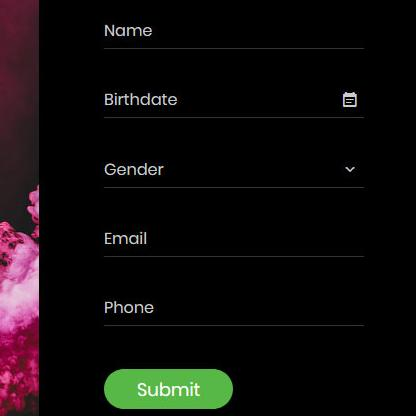button: (103, 367, 235, 412)
field_line: (100, 84, 366, 123), (99, 14, 367, 52), (100, 222, 368, 260), (102, 292, 370, 330), (100, 154, 365, 190)
